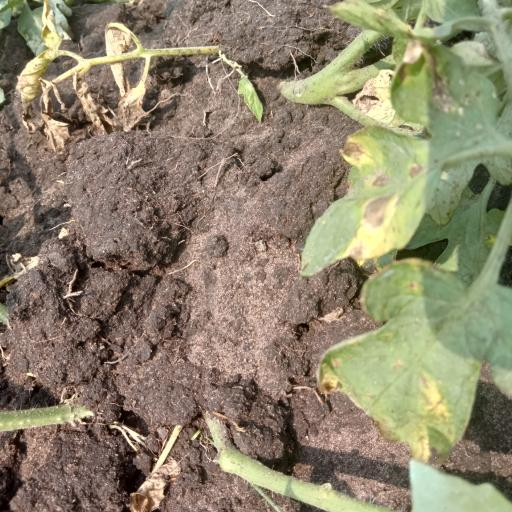Tomato_Brown_Spots: (299, 61, 512, 276), (314, 255, 512, 463)
